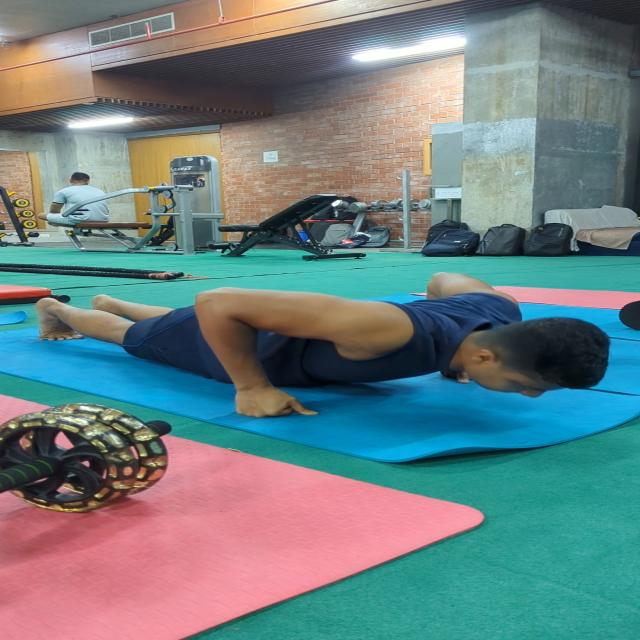Normal_PushUps: (27, 282, 613, 432)
